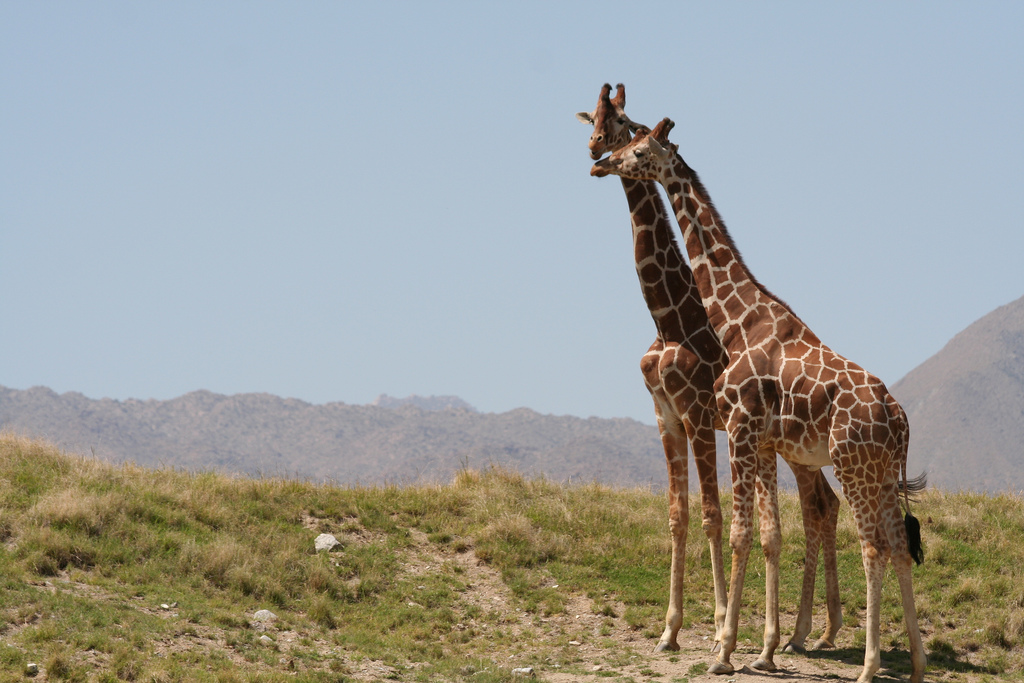giraffe: (620, 118, 924, 664), (588, 86, 728, 653)
